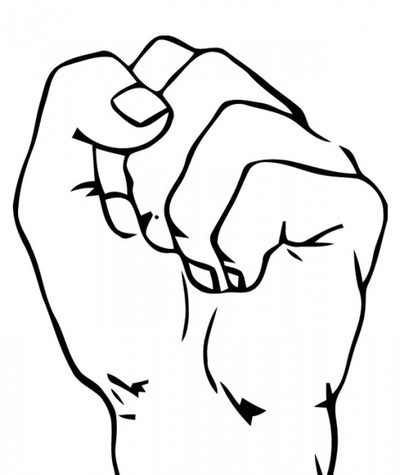closedhandfront: (15, 32, 397, 414)
